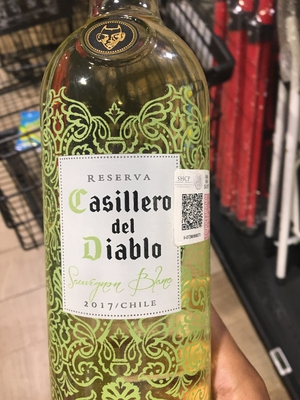casillero del diablo sauvignon blanc: (35, 14, 230, 400)
